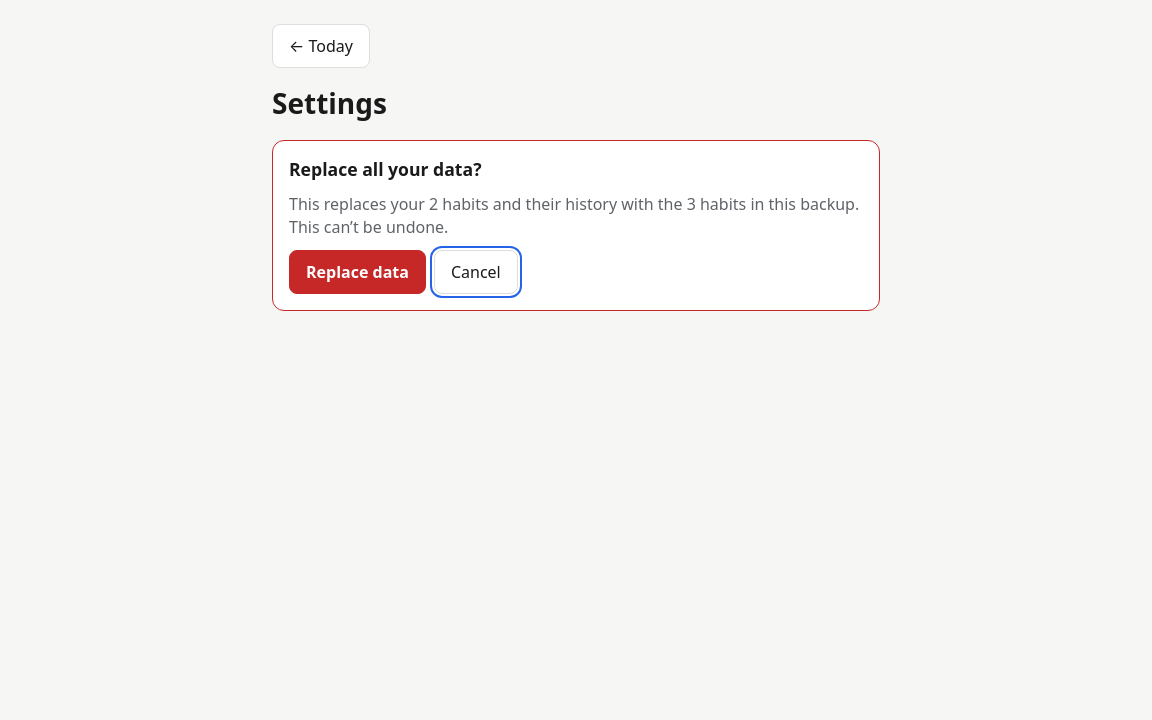
Test: Settings › Import › asks before replacing, with both counts, then replaces everything
Earlier steps of the test are not shown.
Later steps or results of the test are not shown.
Step 1. Click the button "Replace data" → click(357, 272), box [289,250,426,294]
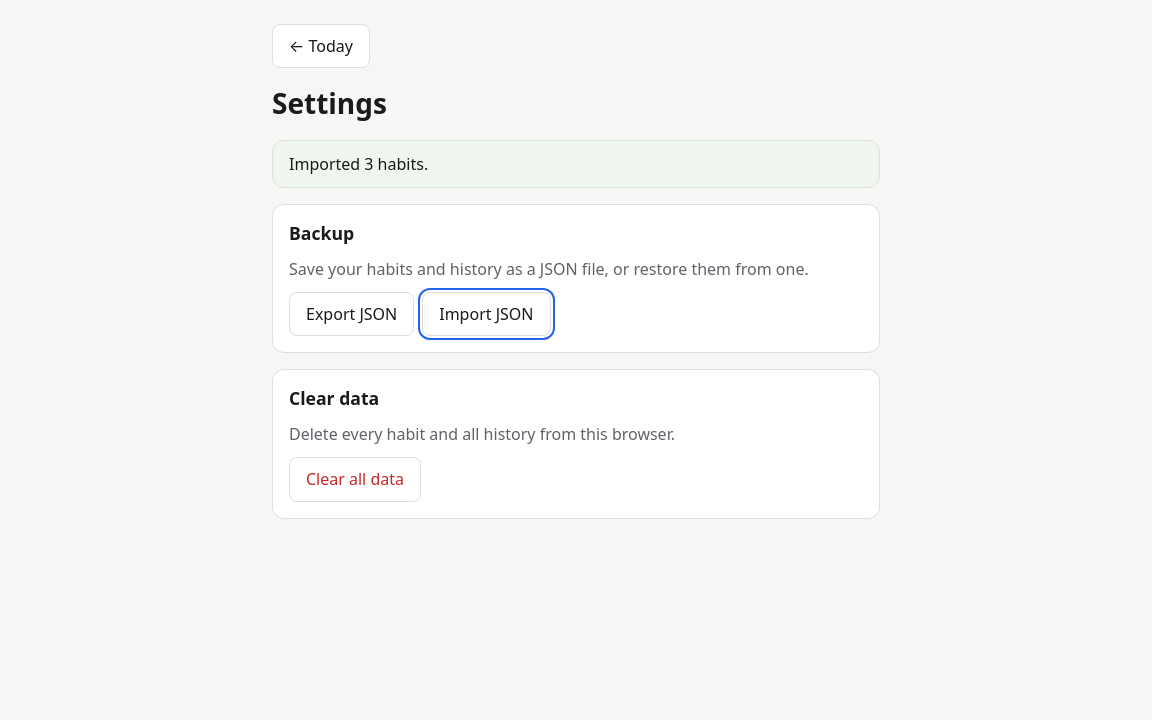
Result: the message reads "Imported 3 habits." at [289,153,428,175]
